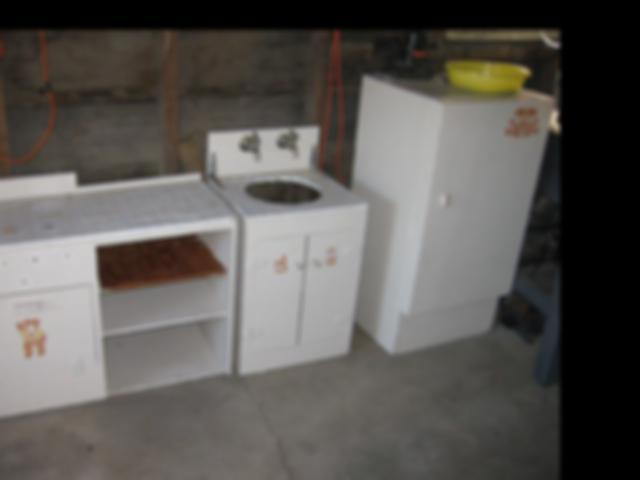Lavaplatos: (219, 119, 367, 234)
